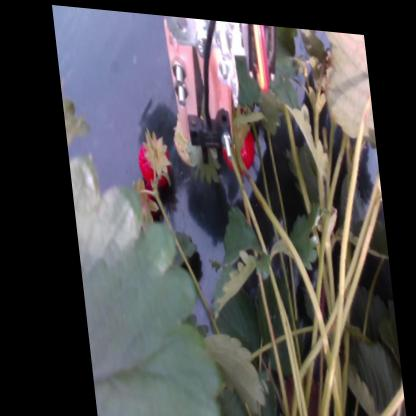ripe: (216, 106, 258, 172), (135, 136, 168, 190), (131, 181, 157, 218)
unripe: (166, 107, 203, 166)
